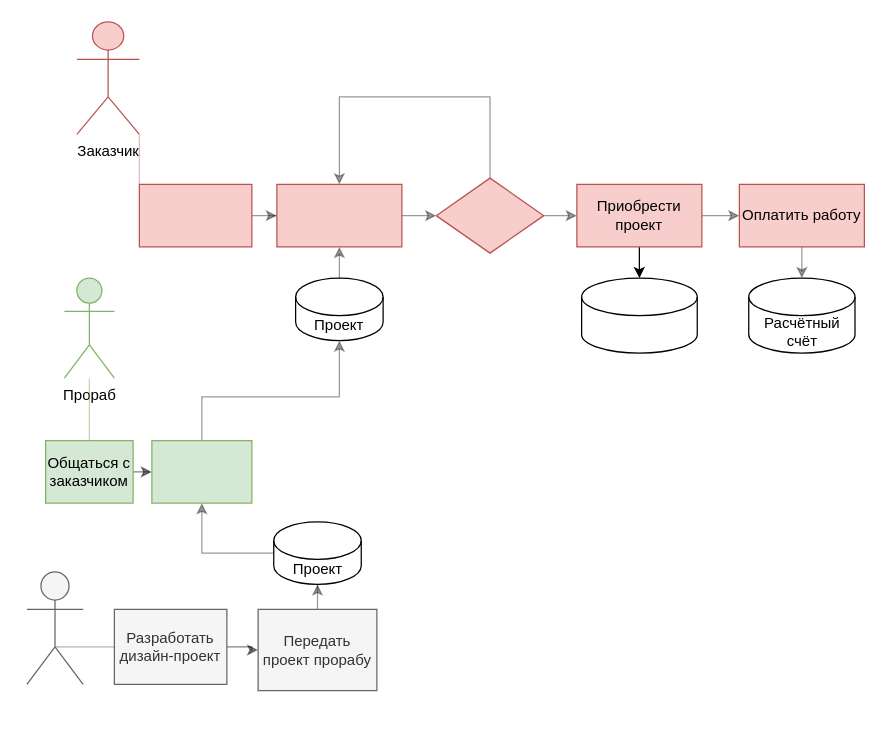
Some shapes in this 886 by 733 pixel diagram are drawn without their labels. The box of each missing label's shape, as (x1, y1, x2, y2) in pixels:
Выбрать из предложенных проектов: (276, 183, 402, 247)
Дизайнер: (26, 571, 83, 684)
Общаться с прорабом: (138, 183, 252, 247)
Предложить заказчику проекты: (151, 439, 252, 503)
Приобретённый проект: (580, 277, 697, 353)
